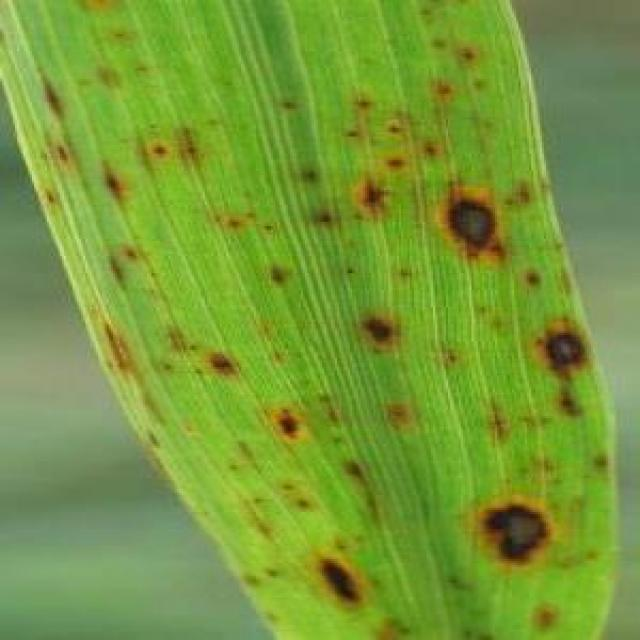Rice: (469, 492, 576, 581), (421, 168, 513, 260), (411, 25, 501, 109), (330, 81, 410, 155), (288, 153, 346, 239), (299, 549, 371, 614), (29, 138, 89, 212), (531, 310, 588, 387), (102, 232, 166, 296), (141, 116, 208, 164), (350, 163, 400, 220), (95, 156, 146, 210), (269, 472, 319, 523), (202, 341, 255, 388), (354, 306, 406, 351), (37, 69, 83, 119), (268, 396, 316, 443), (208, 199, 256, 239), (546, 381, 590, 423), (329, 450, 377, 487), (268, 255, 304, 292)
